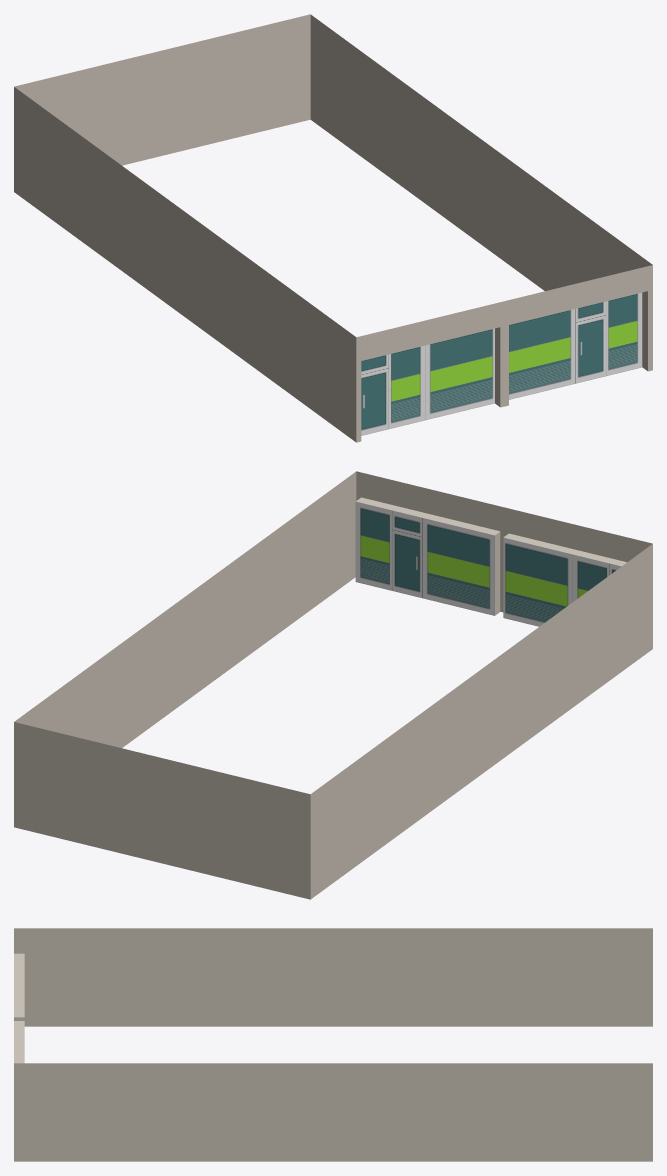
Rendered from Town_Bld-Lrg_BaseA.FBX.
3 renders of one model, top to bottom at view 1: azimuth 30°, elevation 25°; view 2: azimuth 150°, elevation 25°; view 3: azimuth 270°, elevation 25°, orthographic. The views are drawn at different scales.
Parts seen in each view (by area): view 1: Town_Bld-Lrg_BaseA; view 2: Town_Bld-Lrg_BaseA; view 3: Town_Bld-Lrg_BaseA.
Boxes of the visible parts, <box> form: Town_Bld-Lrg_BaseA: <box>14,14,652,442</box>; Town_Bld-Lrg_BaseA: <box>14,471,652,899</box>; Town_Bld-Lrg_BaseA: <box>14,928,652,1161</box>.
Size of the model in its own units: 600 by 204 by 1200.
